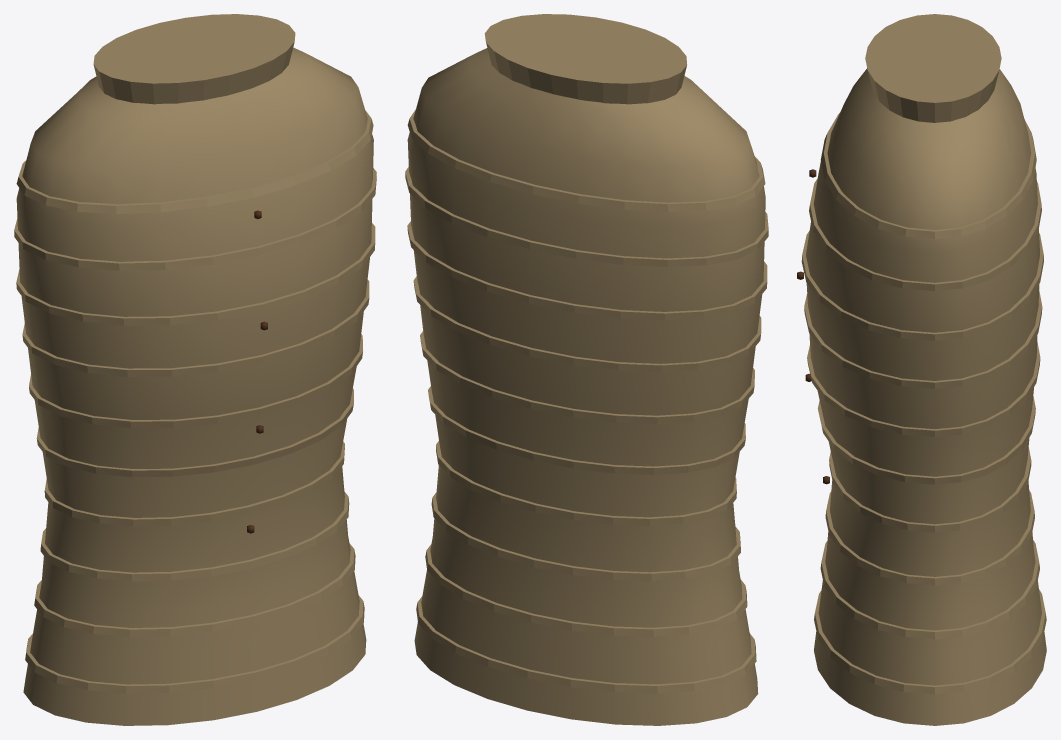
File: body_padded.glb
3 renders of one model, left to right at view 1: azimuth 30°, elevation 25°; view 2: azimuth 150°, elevation 25°; view 3: azimuth 270°, elevation 25°, orthographic. The views are drawn at different scales.
Parts seen in each view (by area): view 1: Body_padded_Cloth_tan; view 2: Body_padded_Cloth_tan; view 3: Body_padded_Cloth_tan.
Part boxes in pixels (bbox=[...]): Body_padded_Cloth_tan: bbox=[14, 14, 376, 725]; Body_padded_Cloth_tan: bbox=[405, 14, 768, 725]; Body_padded_Cloth_tan: bbox=[801, 14, 1046, 725].
Bounding box in the file's own units: 0.4044 × 0.695 × 0.2658.
